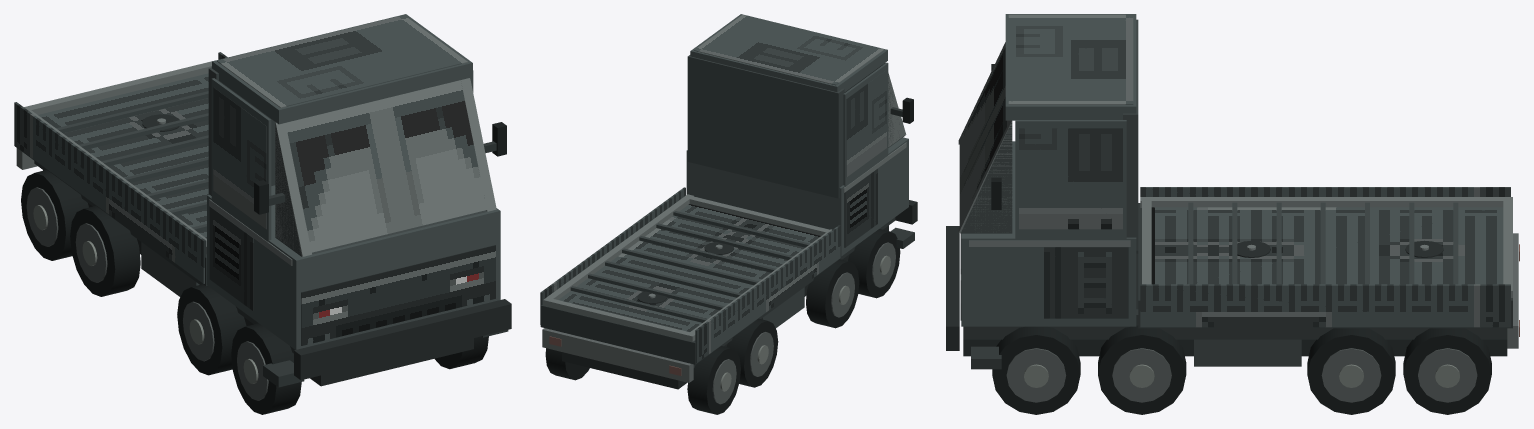
File: CMU3DAU14PropHemettTruckNoBed.glb
3 renders of one model, left to right at view 1: azimuth 30°, elevation 25°; view 2: azimuth 150°, elevation 25°; view 3: azimuth 270°, elevation 25°, orthographic. The views are drawn at different scales.
Parts seen in each view (by area): view 1: continuous sloped divided windscreen, cab lower body, roof hatches and vents, front grille and lamps, bare grooved deck, cargo skirt panel, front bumper, cab side glazing, cab roof backing, sloping windshield side frame (×2), tire 3 -1, deck transverse rib (×4) (+20 smaller); view 2: cab rear bulkhead, bare grooved deck, cab lower body, roof hatches and vents, cargo skirt panel (×2), deck transverse rib (×7), cargo deck structure, cab side glazing, rear bumper, bare deck end rail (×2), tire 2 -1, cab roof backing (+16 smaller); view 3: bare grooved deck, cargo skirt panel (×2), roof hatches and vents, cab side glazing, cab lower body, door vents and marker, long chassis beam, continuous sloped divided windscreen, tire 2 1, tire 3 1, tire 4 1, tire 1 1 (+18 smaller).
Part boxes in pixels (x1,y1,x2,y2): continuous sloped divided windscreen: (285, 80, 486, 252); cab lower body: (207, 185, 500, 349); roof hatches and vents: (217, 15, 467, 107); front grille and lamps: (301, 245, 495, 345); bare grooved deck: (38, 73, 208, 238); cargo skirt panel: (14, 102, 206, 283); front bumper: (294, 299, 511, 380); cab side glazing: (213, 87, 266, 229); cab roof backing: (212, 14, 472, 124); sloping windshield side frame (×2): (275, 78, 496, 256); tire 3 -1: (70, 206, 140, 296); deck transverse rib (×4): (56, 91, 208, 182); cab rear bulkhead: (687, 55, 844, 198); bare grooved deck: (559, 204, 820, 331); cab lower body: (686, 137, 908, 256); roof hatches and vents: (694, 15, 884, 85); cargo skirt panel (×2): (540, 187, 840, 362); deck transverse rib (×7): (570, 211, 810, 322); cargo deck structure: (540, 258, 840, 364); cab side glazing: (846, 70, 886, 176); rear bumper: (542, 328, 693, 382); bare deck end rail (×2): (544, 195, 831, 340); tire 2 -1: (806, 259, 859, 328); cab roof backing: (690, 14, 887, 92); bare grooved deck: (1151, 207, 1503, 284); cargo skirt panel (×2): (1140, 187, 1510, 327); roof hatches and vents: (1008, 14, 1133, 104); cab side glazing: (1019, 128, 1122, 229); cab lower body: (961, 141, 1136, 326); door vents and marker: (1044, 247, 1128, 318); long chassis beam: (963, 309, 1507, 339); continuous sloped divided windscreen: (959, 47, 1009, 225); tire 2 1: (1098, 325, 1186, 414); tire 3 1: (1307, 328, 1395, 414); tire 4 1: (1403, 328, 1491, 414); tire 1 1: (992, 326, 1080, 414).
Bounding box in the file's own units: 1.46 × 1.75 × 2.99.
20 materials, 10 textured.
